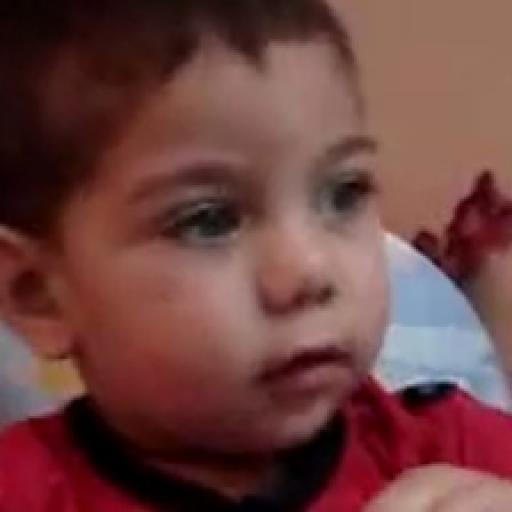Autism: (25, 14, 431, 446)
